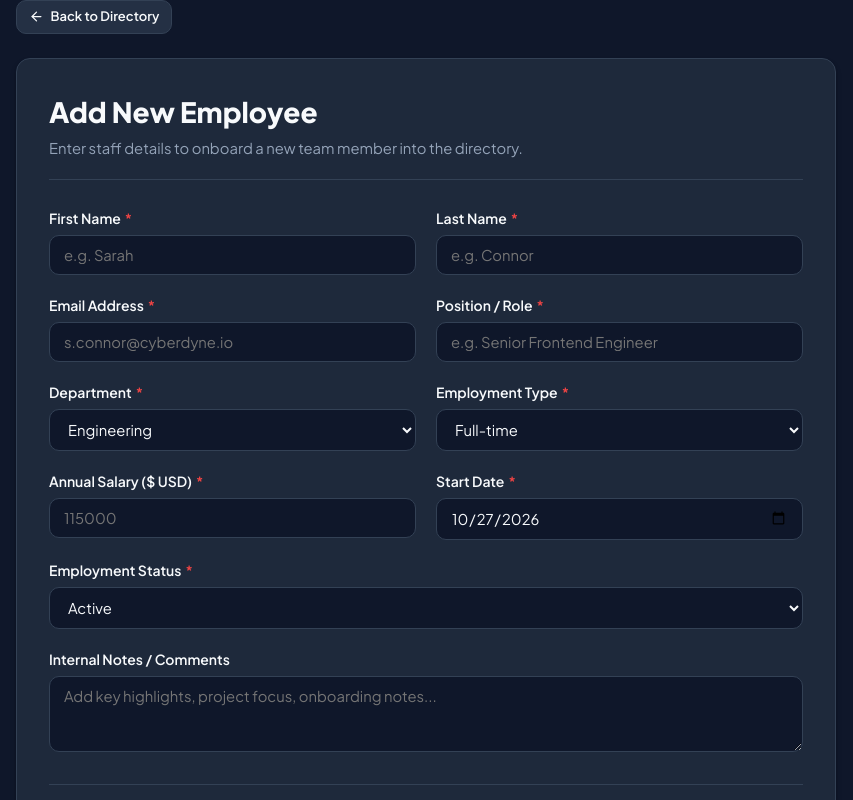
Test case: EmployeeForm (React Hook Form & Zod Validation) › displays server-side validation error and sets field error when API rejects duplicate email
// Fill valid form fields
Type "John" into the field labelled "First Name *" at (232,255), box [49, 235, 416, 275]
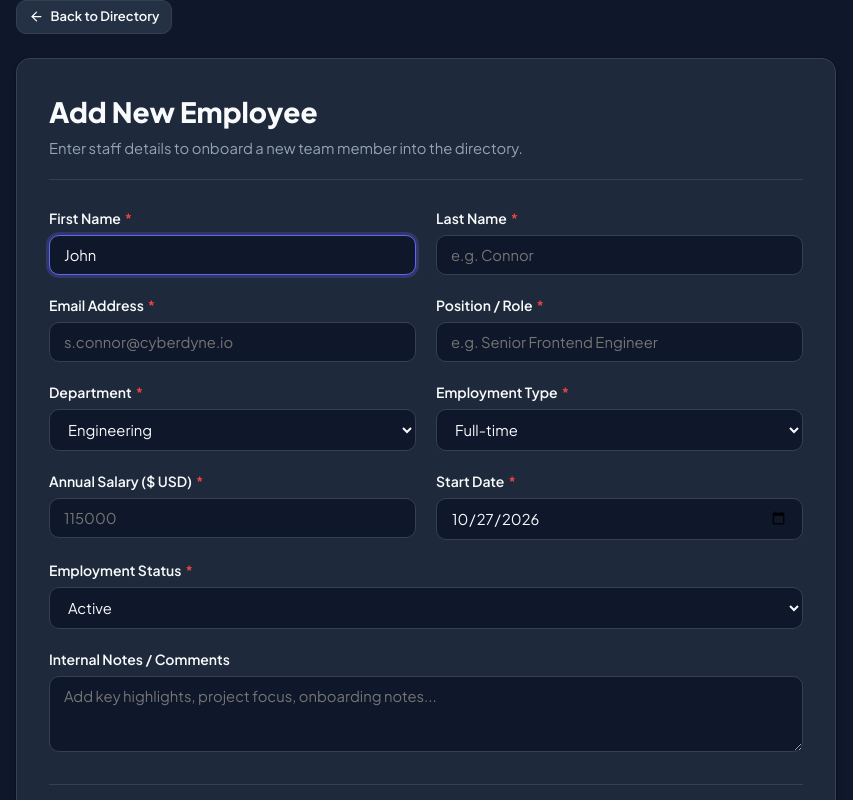
Type "Connor" into the field labelled "Last Name *" at (620,255), box [436, 235, 803, 275]
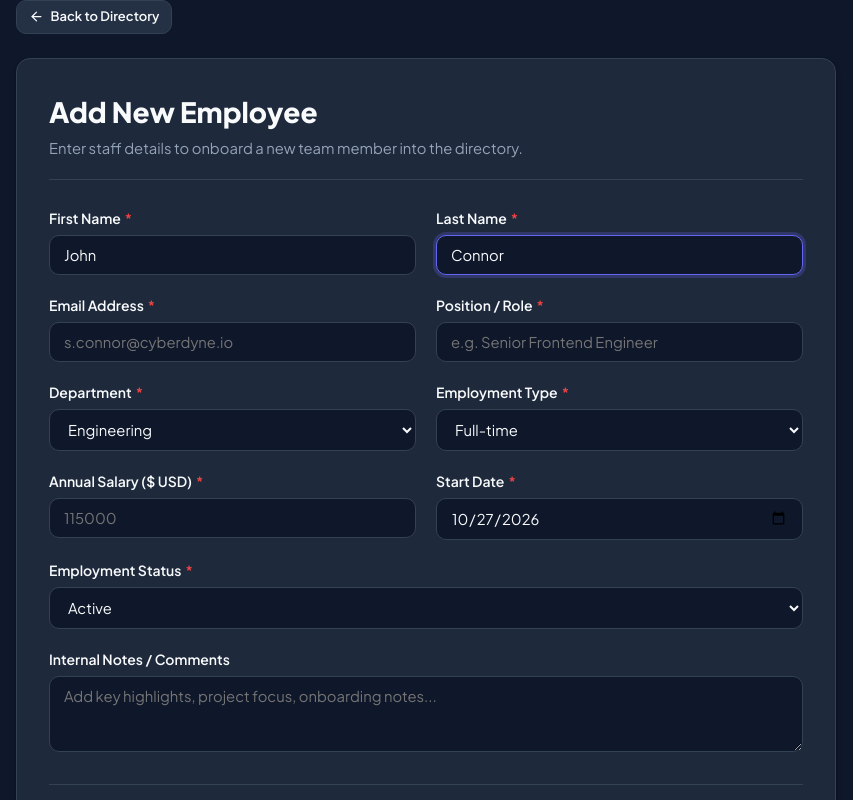
Type "sarah.connor@cyberdyne.io" into the field labelled "Email Address *" at (232,342), box [49, 322, 416, 362]
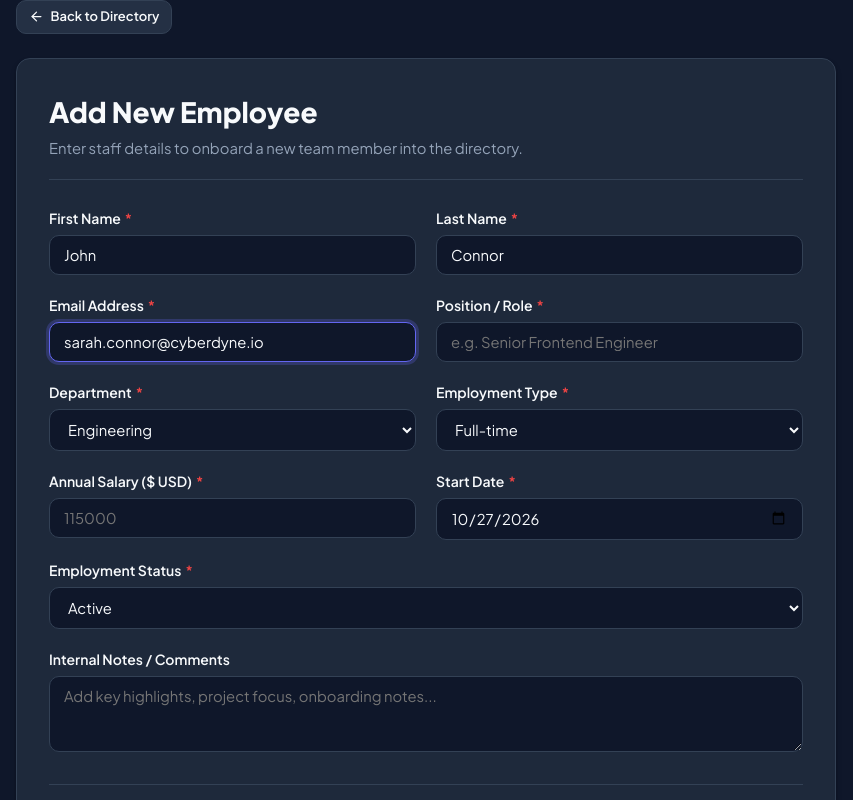
Type "Systems Engineer" into the field labelled "Position / Role *" at (620,342), box [436, 322, 803, 362]
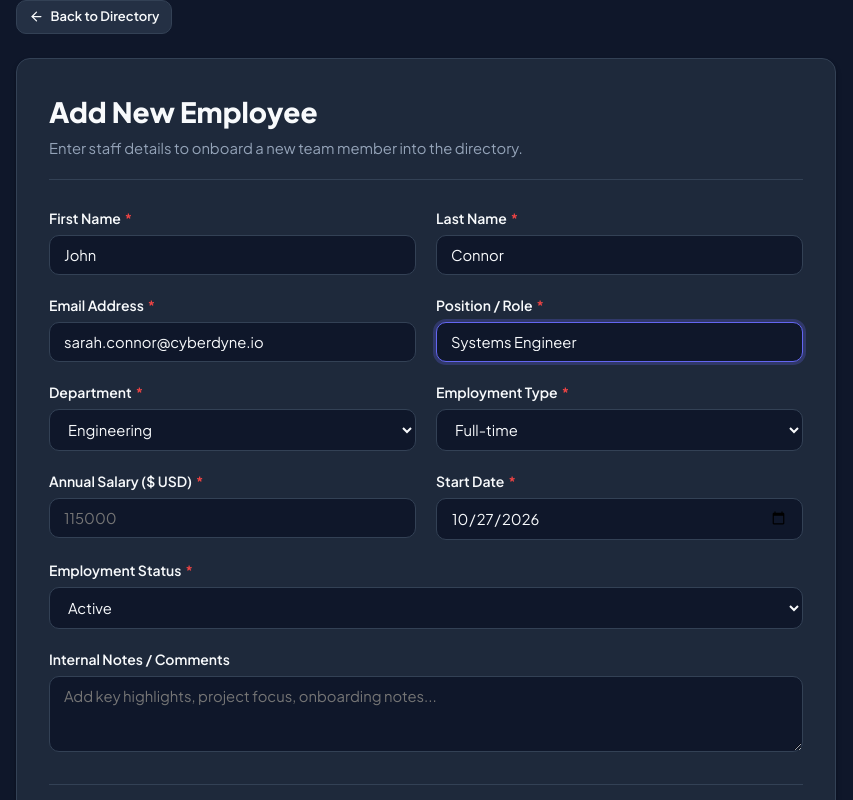
Type "95000" into the number field labelled "Annual Salary ($ USD) *" at (232,518), box [49, 498, 416, 538]
(page scrolled)
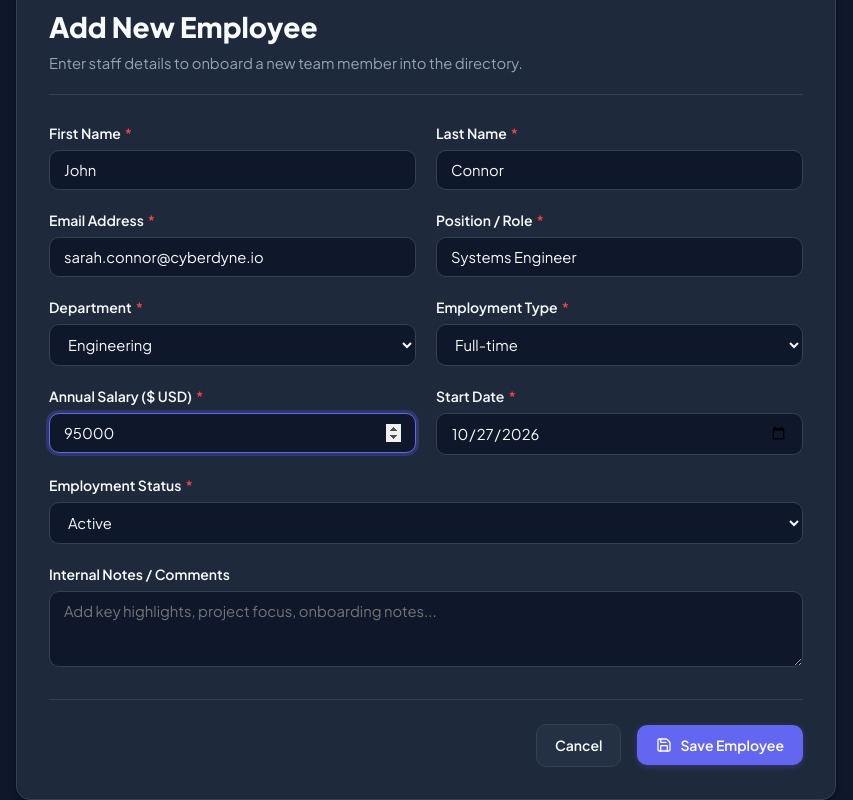
Click the button "Save Employee" at (720,745), box [638, 725, 803, 765]
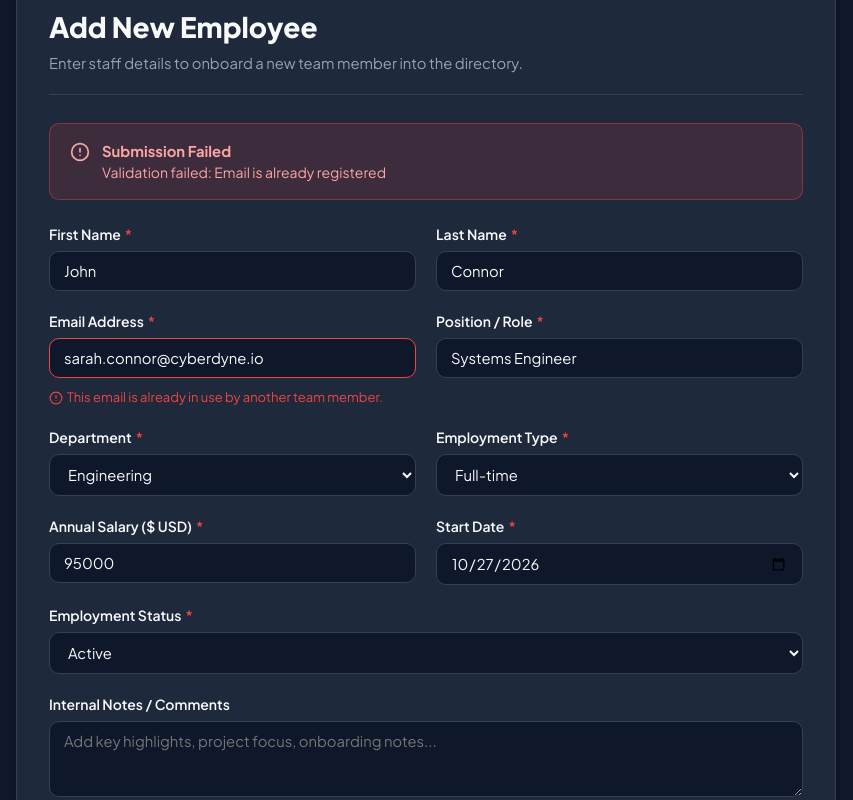
Expected: the text "This email is already in use by another team member." is shown, [67, 388, 383, 407]
Expected: the text "Submission Failed" is shown, [102, 142, 231, 160]
